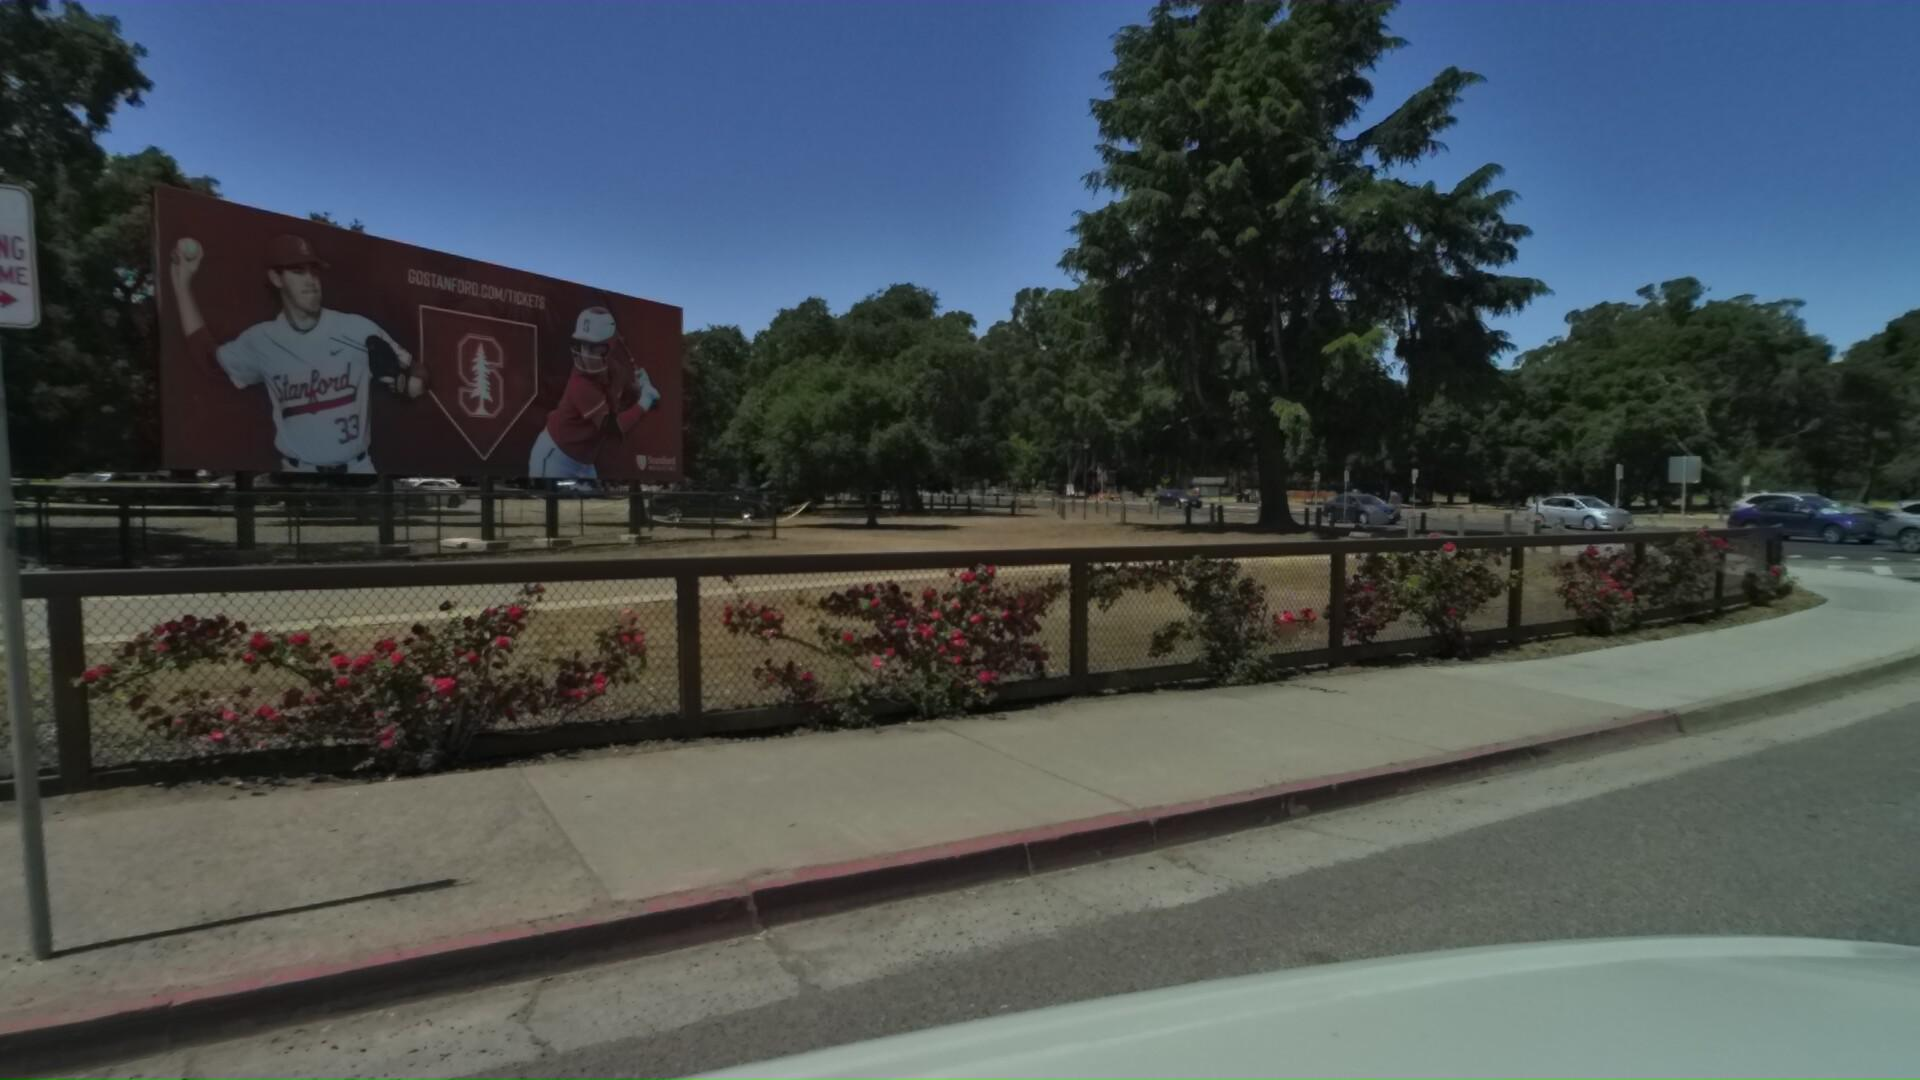car: (1720, 493, 1905, 549), (1720, 487, 1891, 541), (1520, 489, 1651, 533), (1871, 488, 1920, 558), (1327, 495, 1415, 531), (1154, 492, 1209, 518)
